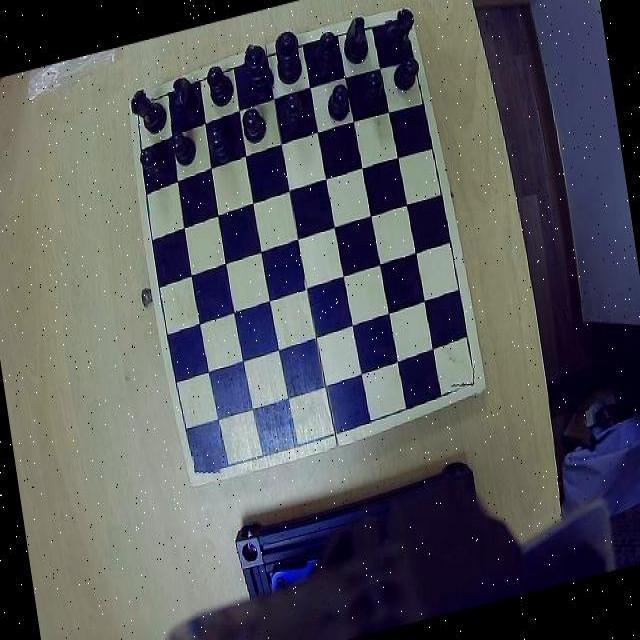chess-table-corners: (449, 358, 486, 398), (188, 451, 222, 486), (382, 9, 414, 44), (128, 88, 156, 120)
